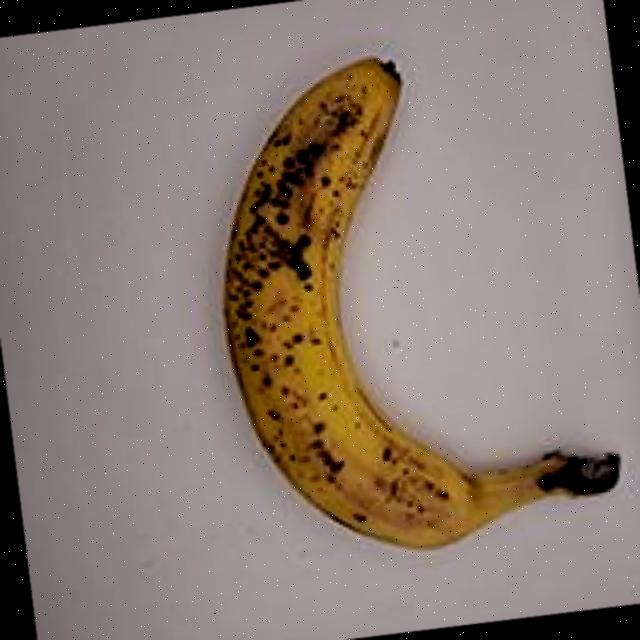Overripe: (159, 0, 640, 605)
